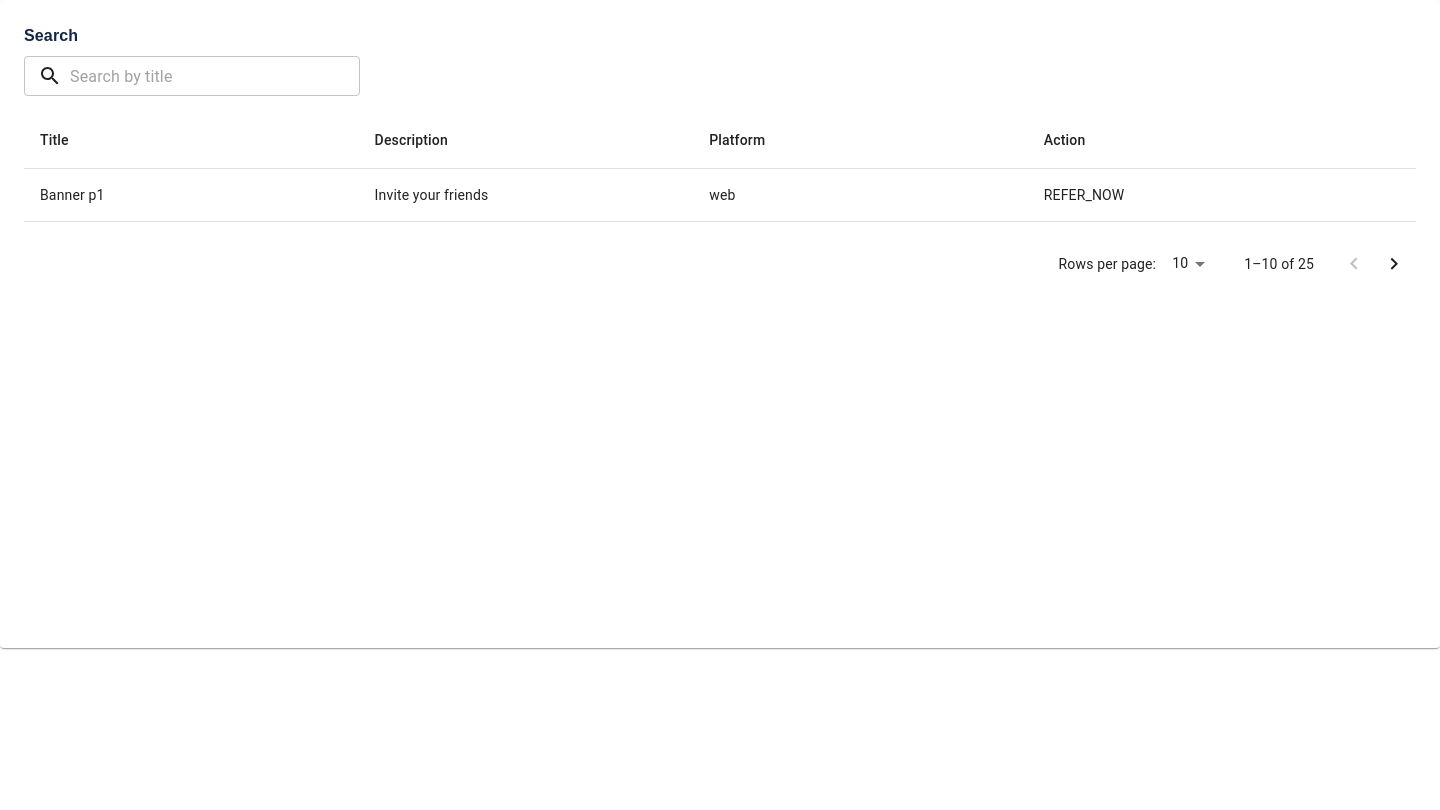
Test: Banners list › Back after a page change shows the earlier page again (TEOS-289)
Later steps or results of the test are not shown.
Expected: the text "Banner p1" is shown, [24,168,359,222]
Click the button named "next page" at (1394, 264), box [1374,244,1414,284]
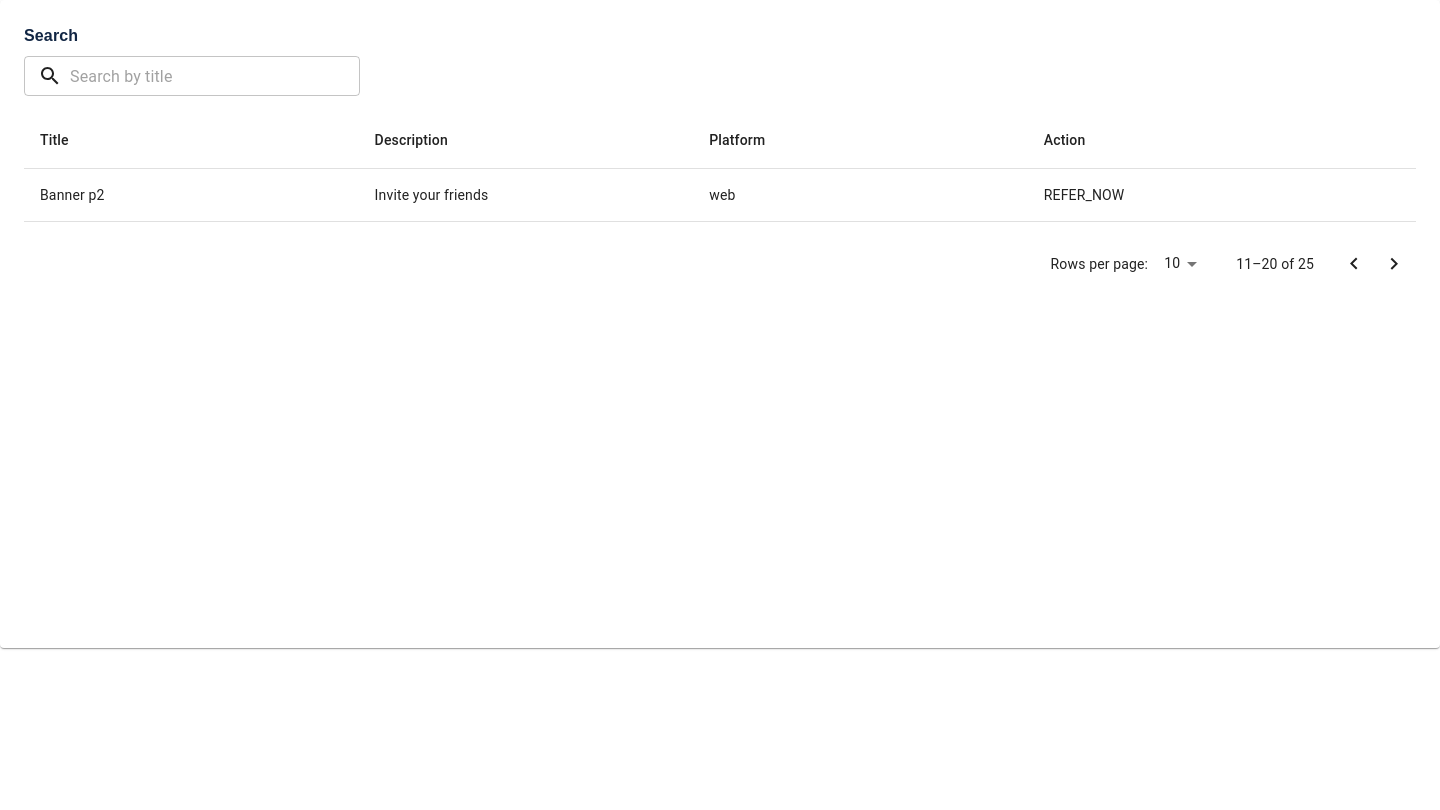
Now the text "Banner p2" is shown, box [24,168,359,222]
